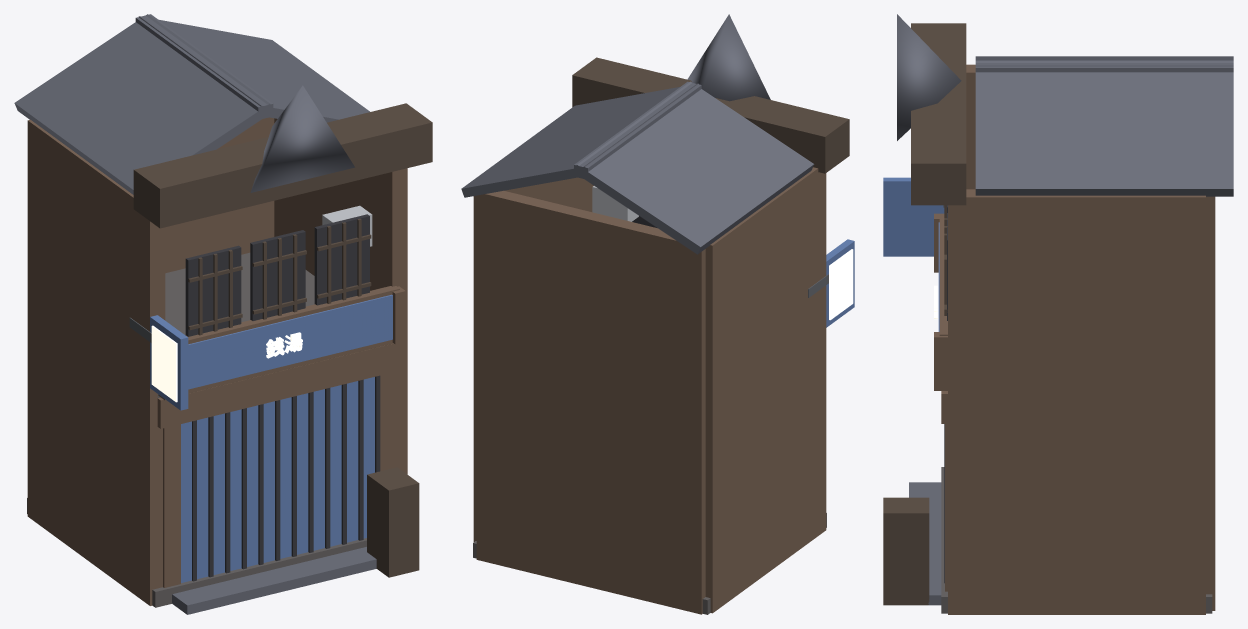
Rendered from prop_shop_sento_closed.glb.
3 views of the same model, side by side, from view 1: azimuth 30°, elevation 25°; view 2: azimuth 150°, elevation 25°; view 3: azimuth 270°, elevation 25° (orthographic). The views are drawn at different scales.
Parts seen in each view (by area): view 1: shop_sento_closed; view 2: shop_sento_closed; view 3: shop_sento_closed.
Part boxes in pixels (x1=…): shop_sento_closed: x1=14, y1=14, x2=432, y2=614; shop_sento_closed: x1=461, y1=14, x2=854, y2=614; shop_sento_closed: x1=883, y1=14, x2=1233, y2=614.
Size of the model in its own units: 3.6 by 6.4 by 3.8.
